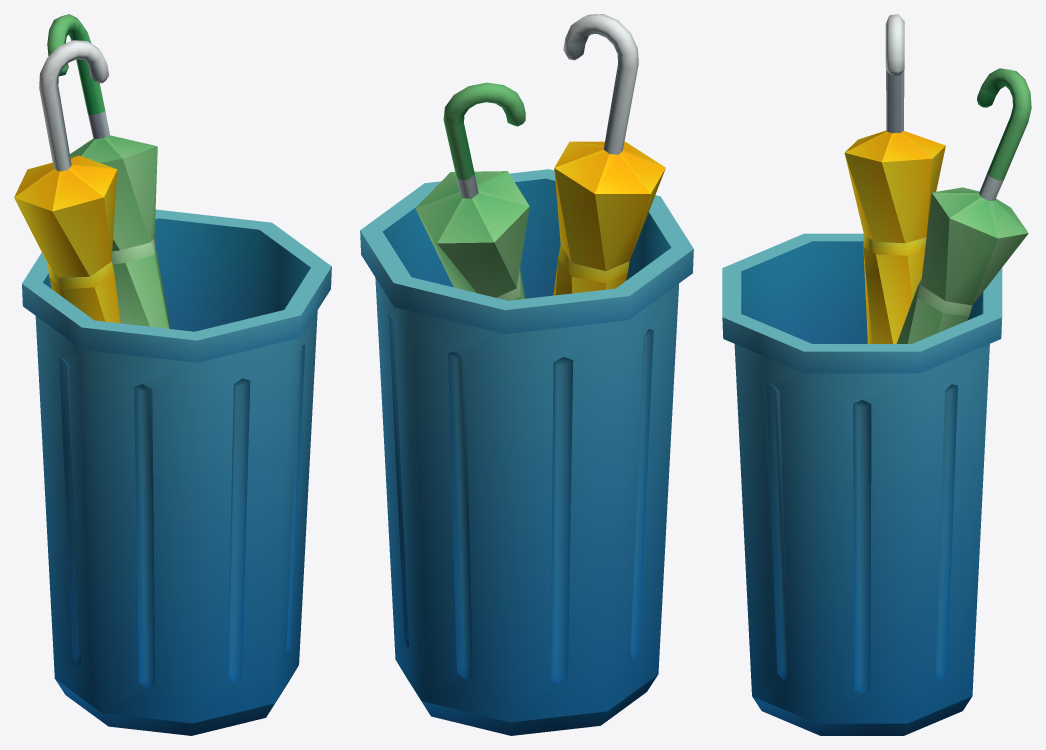
The model's file is CR_UmbrellaStand.FBX.
3 renders of one model, left to right at view 1: azimuth 30°, elevation 25°; view 2: azimuth 150°, elevation 25°; view 3: azimuth 270°, elevation 25°, orthographic. The views are drawn at different scales.
Visible parts, largest first — view 1: CR_UmbrellaStand; view 2: CR_UmbrellaStand; view 3: CR_UmbrellaStand.
Boxes of the visible parts, bbox=[...] form: CR_UmbrellaStand: bbox=[14, 14, 331, 735]; CR_UmbrellaStand: bbox=[360, 14, 693, 735]; CR_UmbrellaStand: bbox=[722, 14, 1031, 735].
Bounding box in the file's own units: 11.01 × 26.13 × 11.53.
